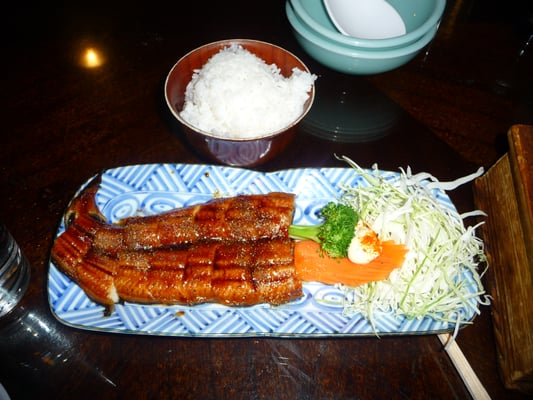curry: (290, 201, 359, 259), (310, 201, 360, 258)
sushi: (163, 38, 319, 168)
